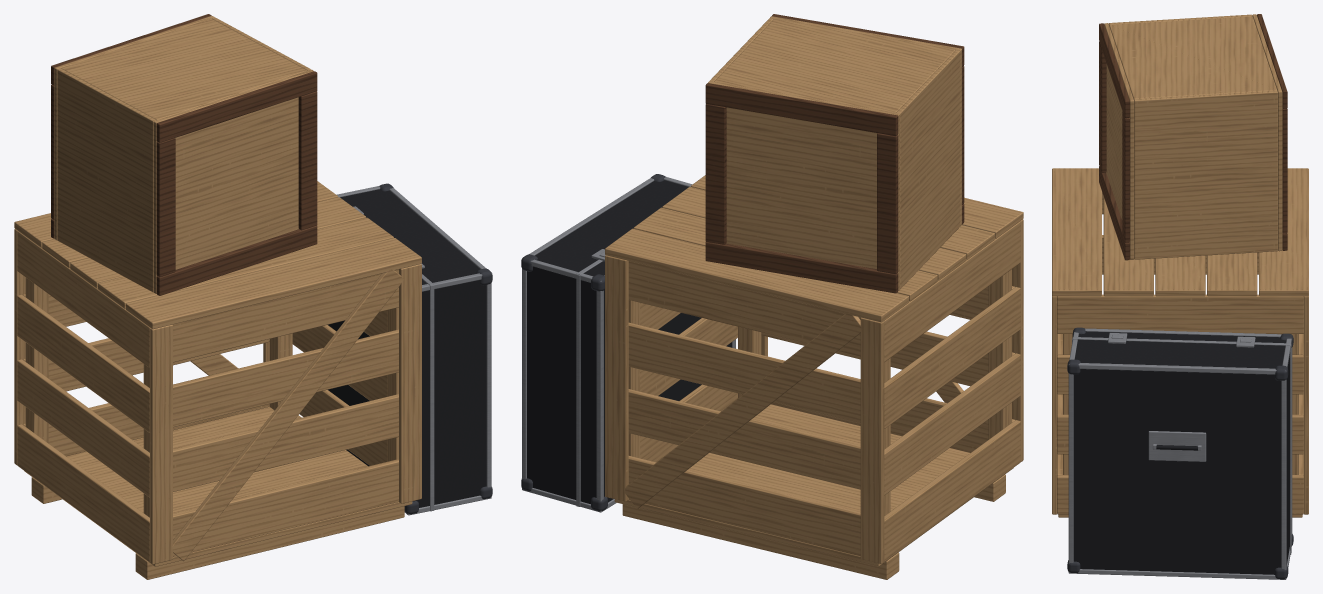
Rendered from crate_stack.glb.
The picture shows the model from 3 angles, left to right: view 1: azimuth 30°, elevation 25°; view 2: azimuth 150°, elevation 25°; view 3: azimuth 270°, elevation 25°; orthographic projection. The views are drawn at different scales.
Visible parts, largest first — view 1: case_plastic_dark_0, crate_small_wood_oak_2, crate_small_wood_oak_5, crate_small_wood_oak_1, lid_big_wood_oak_4, crate_big_wood_oak_7, crate_big_wood_oak_2, crate_big_wood_oak_11, crate_big_wood_oak_15, crate_big_wood_oak_25, crate_big_wood_oak_19, crate_big_wood_oak_18 (+28 smaller); view 2: crate_small_wood_oak_3, case_plastic_dark_0, crate_small_wood_oak_1, crate_small_wood_oak_5, crate_big_wood_oak_8, crate_big_wood_oak_12, crate_big_wood_oak_16, crate_big_wood_oak_2, crate_big_wood_oak_20, lid_big_wood_oak_0, crate_big_wood_oak_28, crate_big_wood_oak_14 (+28 smaller); view 3: case_plastic_dark_0, crate_small_wood_oak_4, crate_small_wood_oak_1, crate_big_wood_oak_21, lid_big_wood_oak_4, lid_big_wood_oak_0, crate_small_wood_oak_2, lid_big_wood_oak_3, lid_big_wood_oak_1, lid_big_wood_oak_2, case_steel_brushed_28, case_steel_brushed_12 (+22 smaller).
Boxes of the visible parts, left/top/right/bottom form: case_plastic_dark_0: left=328, top=189, right=486, bottom=507; crate_small_wood_oak_2: left=153, top=69, right=313, bottom=293; crate_small_wood_oak_5: left=57, top=68, right=156, bottom=292; crate_small_wood_oak_1: left=61, top=18, right=306, bottom=120; lid_big_wood_oak_4: left=126, top=238, right=421, bottom=329; crate_big_wood_oak_7: left=173, top=459, right=398, bottom=556; crate_big_wood_oak_2: left=24, top=406, right=412, bottom=566; crate_big_wood_oak_11: left=173, top=394, right=398, bottom=491; crate_big_wood_oak_15: left=173, top=329, right=398, bottom=427; crate_big_wood_oak_25: left=172, top=269, right=403, bottom=561; crate_big_wood_oak_19: left=173, top=269, right=398, bottom=362; crate_big_wood_oak_18: left=17, top=294, right=149, bottom=432; crate_small_wood_oak_3: left=708, top=81, right=899, bottom=290; case_plastic_dark_0: left=527, top=180, right=731, bottom=504; crate_small_wood_oak_1: left=714, top=19, right=955, bottom=112; crate_small_wood_oak_5: left=896, top=50, right=960, bottom=288; crate_big_wood_oak_8: left=628, top=456, right=860, bottom=556; crate_big_wood_oak_12: left=628, top=389, right=860, bottom=489; crate_big_wood_oak_16: left=628, top=322, right=860, bottom=423; crate_big_wood_oak_2: left=614, top=404, right=1013, bottom=566; crate_big_wood_oak_20: left=628, top=261, right=860, bottom=356; lid_big_wood_oak_0: left=605, top=228, right=908, bottom=322; crate_big_wood_oak_28: left=624, top=312, right=862, bottom=508; crate_big_wood_oak_14: left=884, top=353, right=1020, bottom=495; case_plastic_dark_0: left=1073, top=331, right=1289, bottom=574; crate_small_wood_oak_4: left=1134, top=90, right=1277, bottom=259; crate_small_wood_oak_1: left=1109, top=16, right=1277, bottom=99; crate_big_wood_oak_21: left=1057, top=294, right=1303, bottom=333; lid_big_wood_oak_4: left=1052, top=168, right=1101, bottom=296; lid_big_wood_oak_0: left=1259, top=168, right=1308, bottom=296; crate_small_wood_oak_2: left=1104, top=23, right=1134, bottom=259; lid_big_wood_oak_3: left=1103, top=197, right=1153, bottom=296; lid_big_wood_oak_1: left=1207, top=252, right=1257, bottom=296; lid_big_wood_oak_2: left=1155, top=255, right=1205, bottom=296; case_steel_brushed_28: left=1148, top=431, right=1206, bottom=461; case_steel_brushed_12: left=1078, top=363, right=1276, bottom=374.
Size of what is drawn, in the model's own units: 1.21 by 1.4 by 0.8.
Materials: 7 (7 with a texture image).
